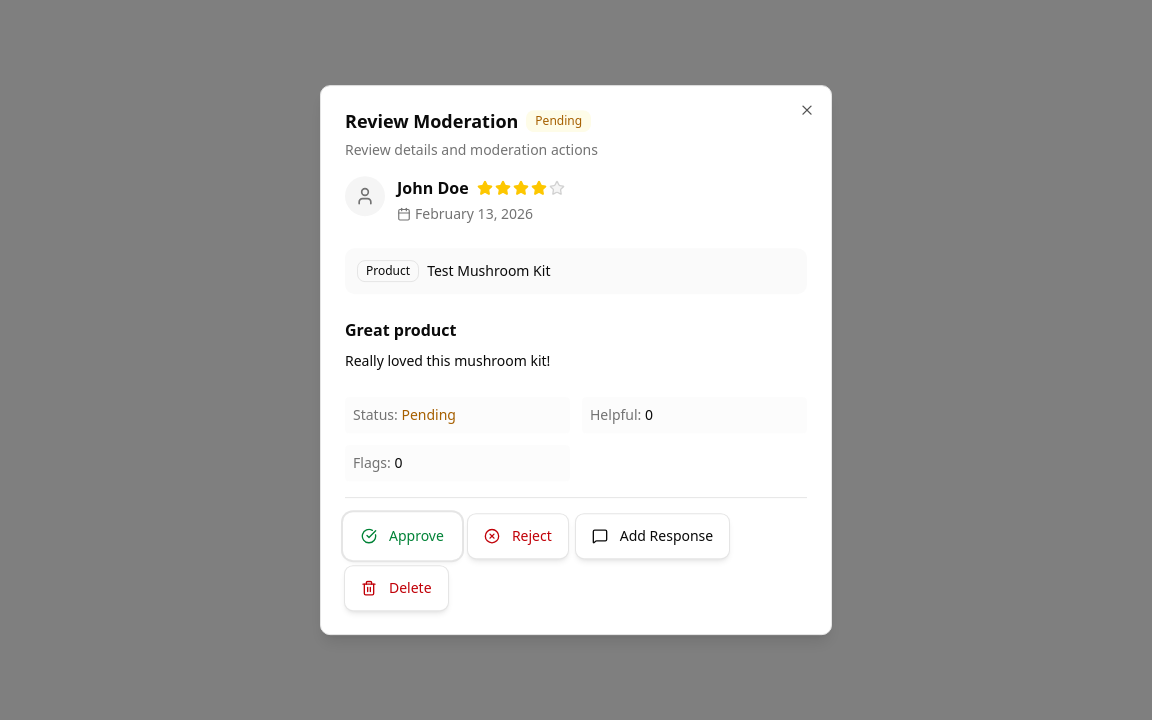
Scenario: ReviewModerationModal › delete action › shows delete confirmation dialog
Note: Click the delete button (before dialog opens, only one exists)
Click the button "Delete".
click(396, 588)  # box [345,566,448,610]
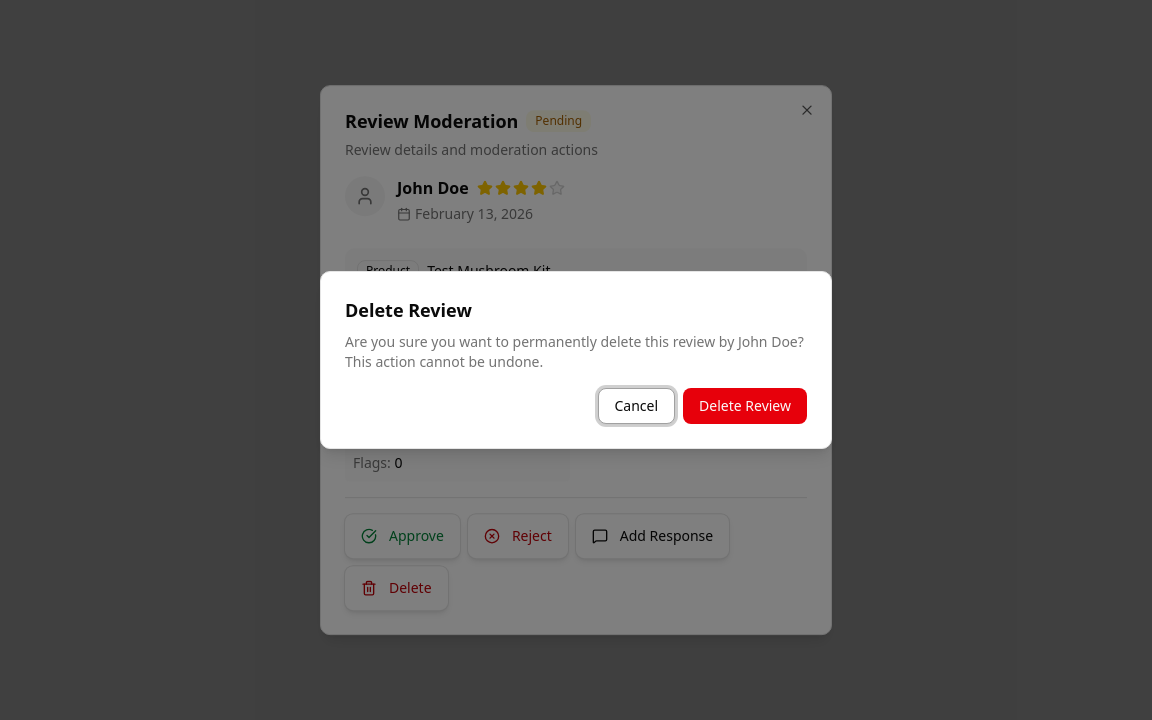
Result: the text "Are you sure you want to permanently delete" is shown at [345,332,738,351]
